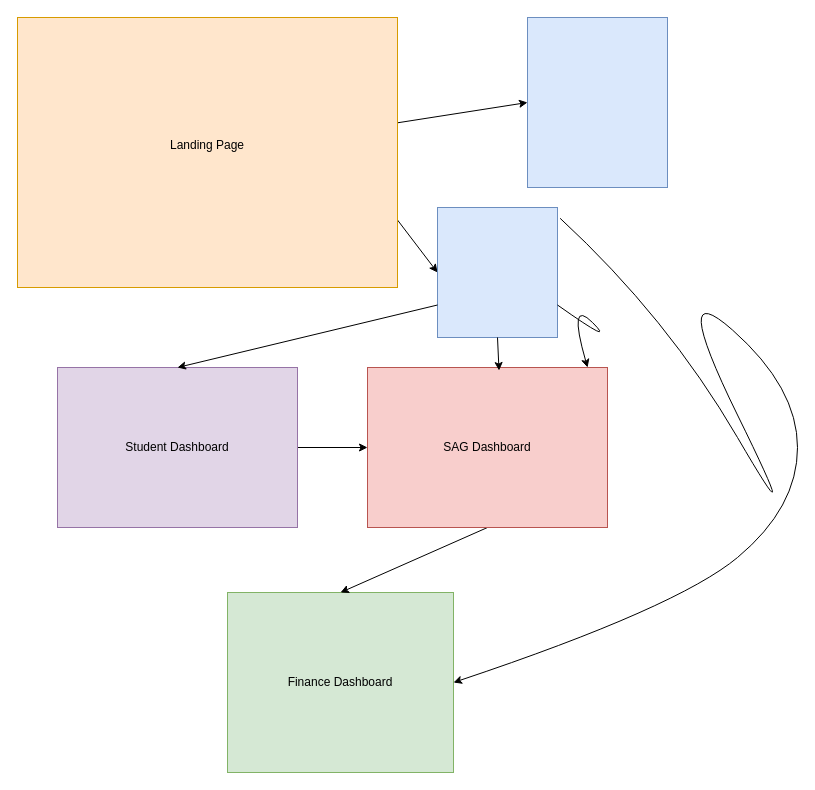
Some shapes in this 815 by 790 pixel diagram are drawn without their labels. The box of each missing label's shape, as (x1, y1, x2, y2) in pixels:
Login Page: (436, 206, 558, 338)
Register Page: (526, 16, 668, 188)
